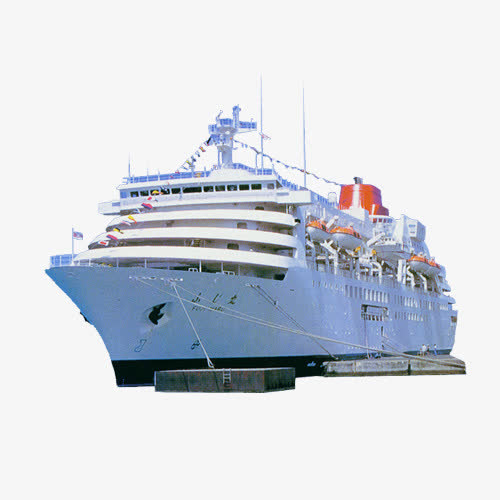youlun: (40, 106, 456, 385)
